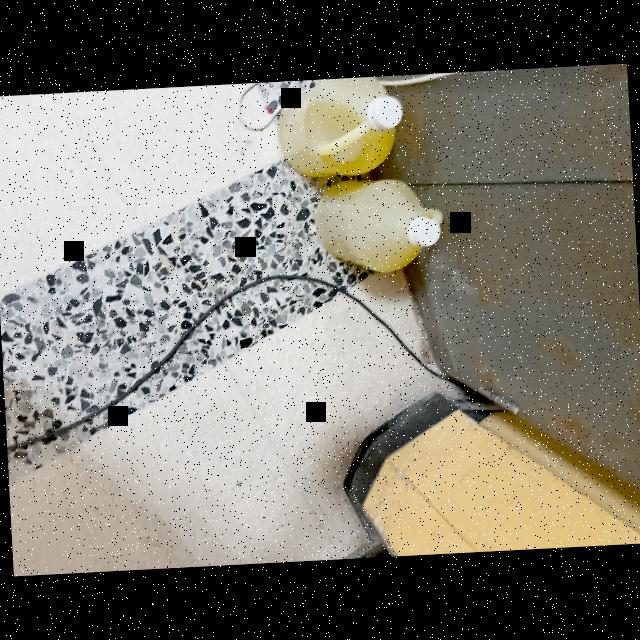chemical_plastic_gallon: (268, 75, 412, 184), (304, 175, 446, 282)
